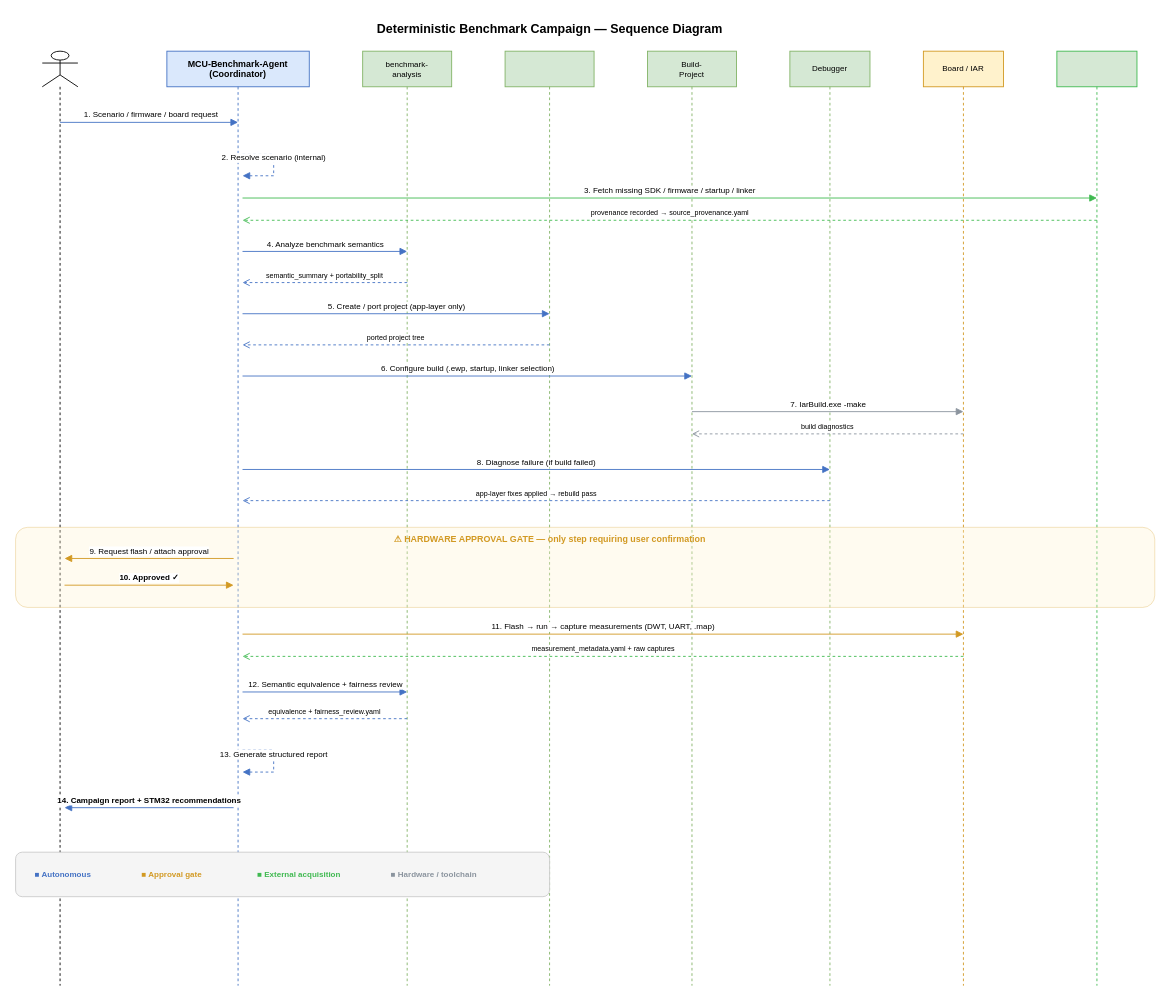
This 1170x1001 diagram has some shape labels left out. Here are the shapes that lost their labels. From the top down, the box of each, then its label:
(41, 50, 78, 986): User
(504, 50, 594, 986): Creation- Porting
(1056, 50, 1137, 986): Vendor Source
